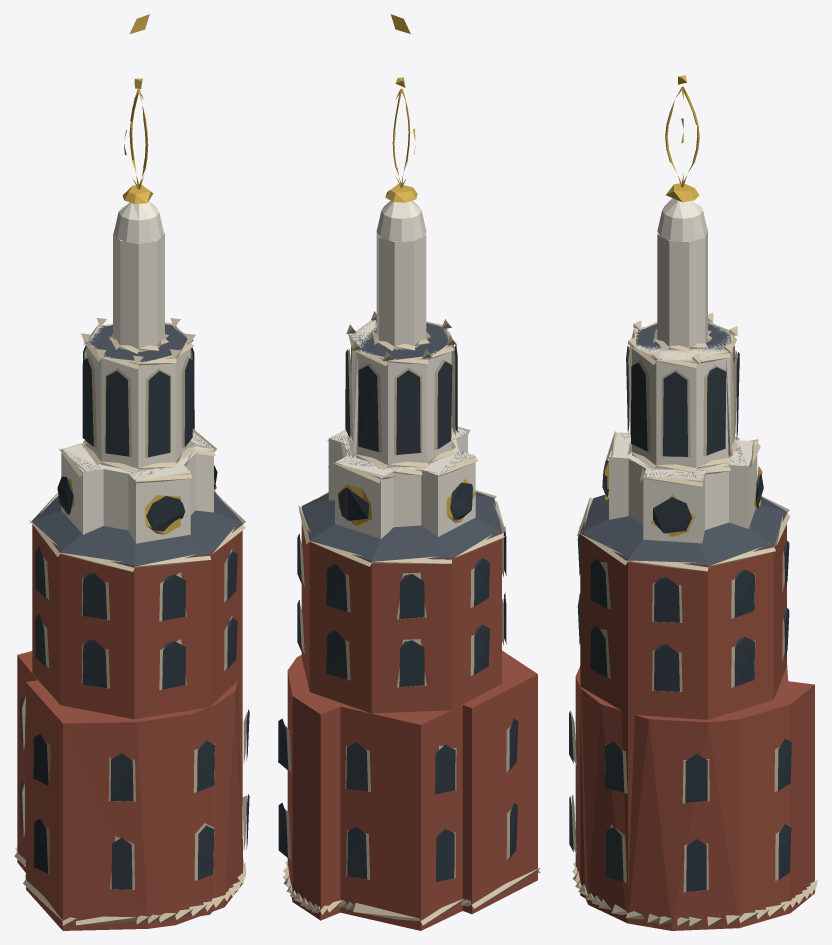
File: montelbaanstoren-amsterdam.lod1.glb
3 views of the same model, side by side, from view 1: azimuth 30°, elevation 25°; view 2: azimuth 150°, elevation 25°; view 3: azimuth 270°, elevation 25° (orthographic).
Parts seen in each view (by area): view 1: montelbaanstoren-amsterdam; view 2: montelbaanstoren-amsterdam; view 3: montelbaanstoren-amsterdam.
Boxes of the visible parts, x1,y1,x2,y2 form: montelbaanstoren-amsterdam: (14, 14, 249, 930); montelbaanstoren-amsterdam: (278, 14, 540, 930); montelbaanstoren-amsterdam: (569, 75, 817, 930).
Bounding box in the file's own units: 12.18 × 48 × 12.41.
